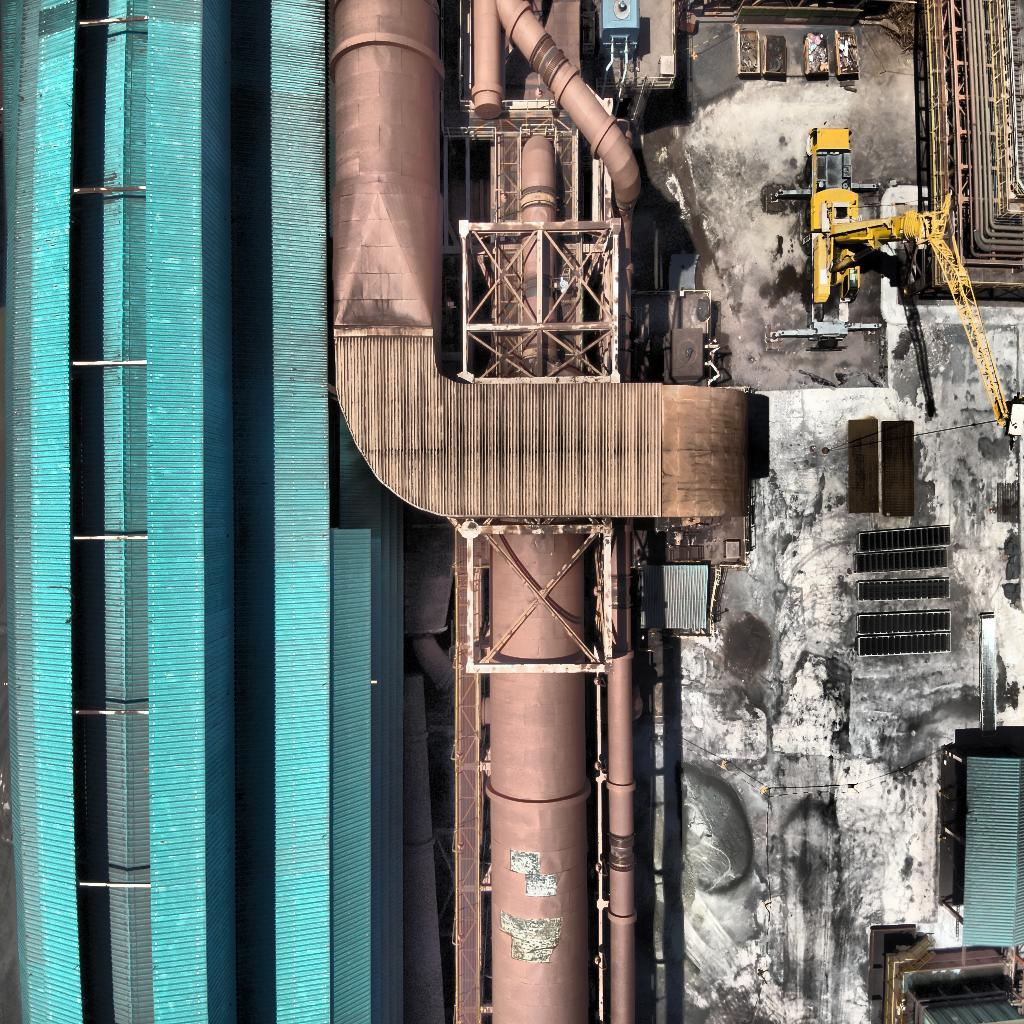Failures: (500, 910, 564, 942), (510, 942, 560, 965), (508, 848, 542, 876), (523, 873, 558, 899)
